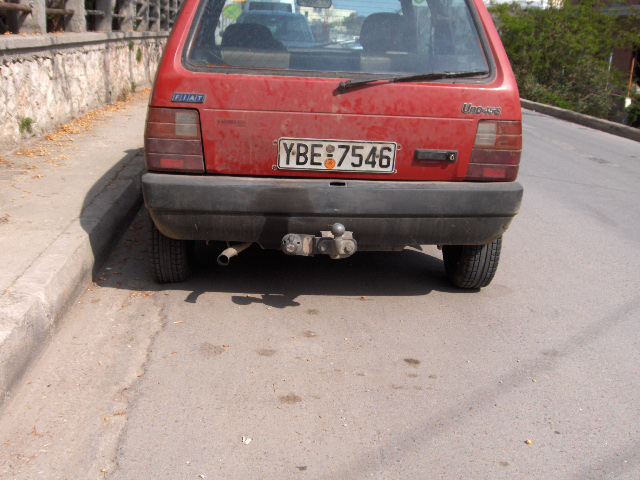licenseplate: (277, 136, 395, 173)
